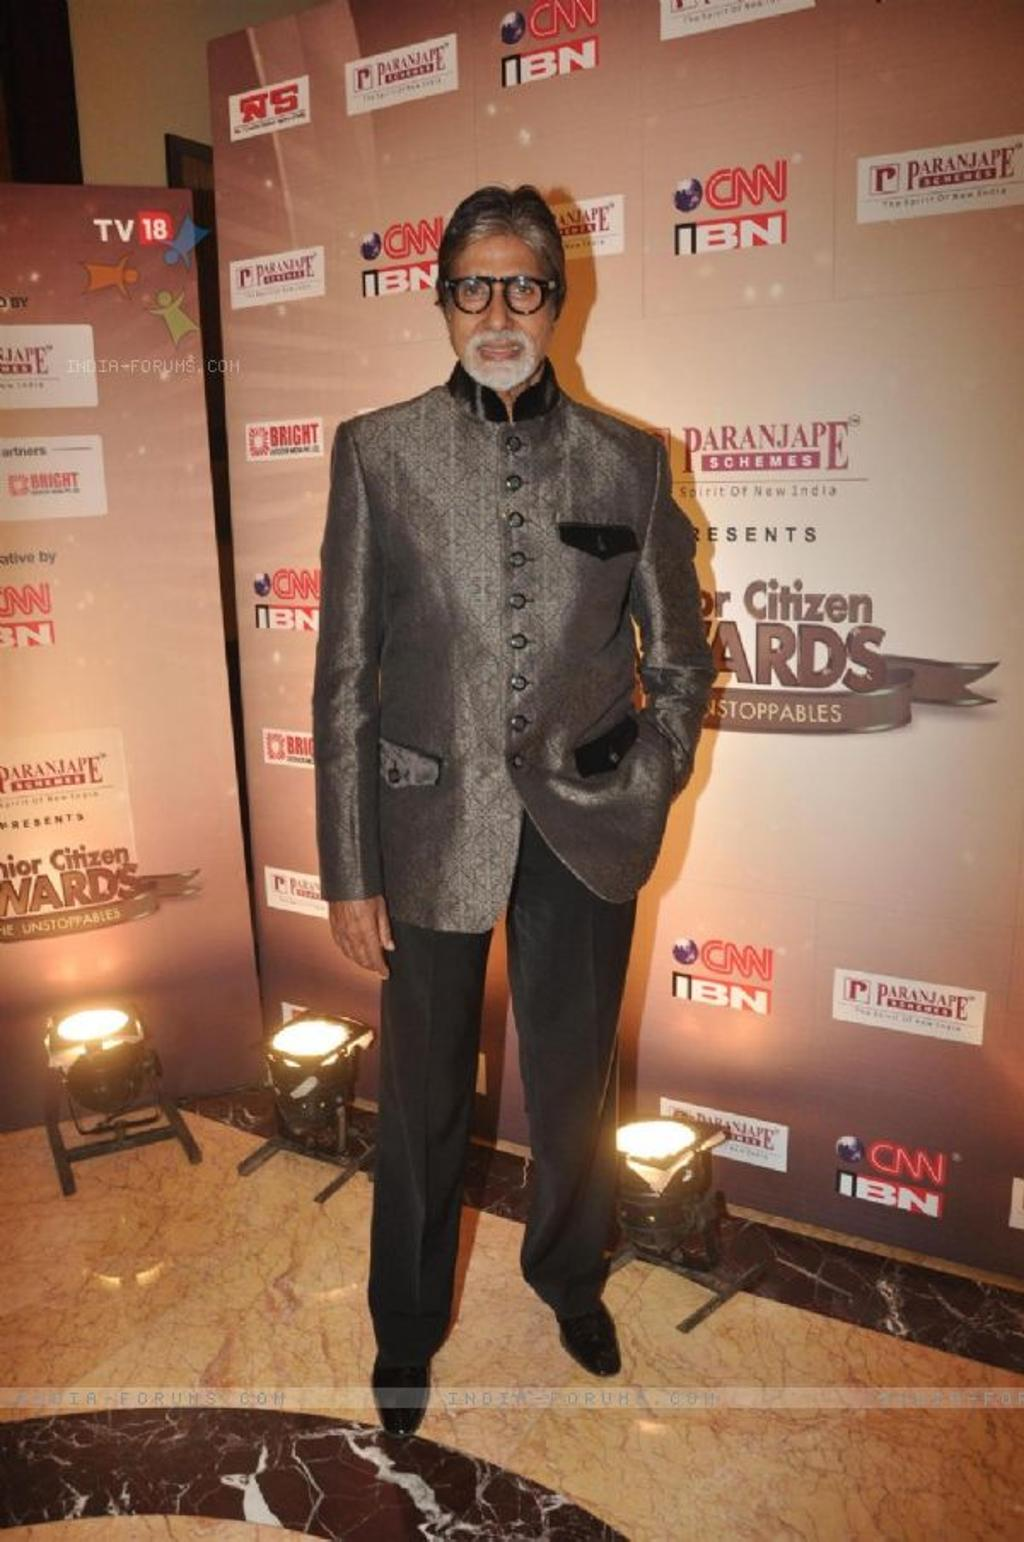face: (449, 220, 560, 386)
